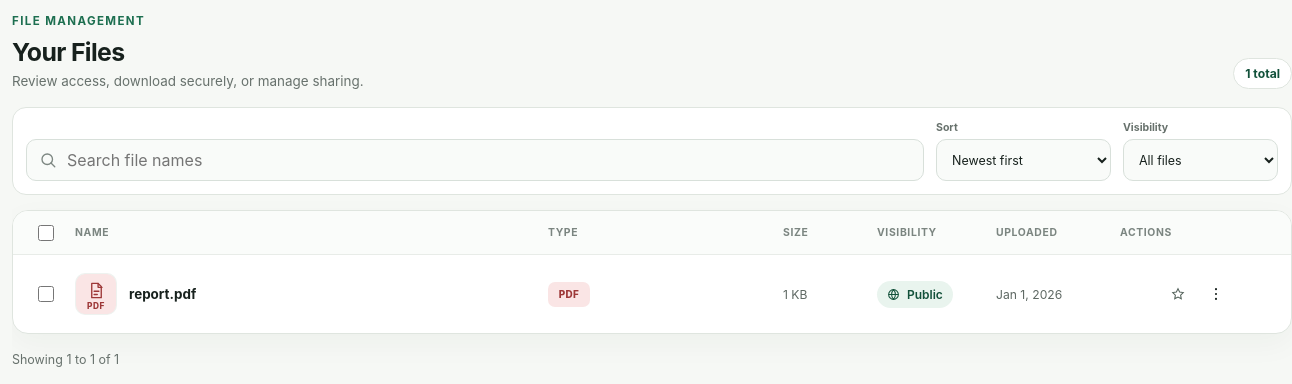
it: FileList professional table and pagination › keeps compact controls accessible and renders functional filter controls
Click the button named "Open actions for report.pdf": (1216, 294) [1200,277,1232,311]
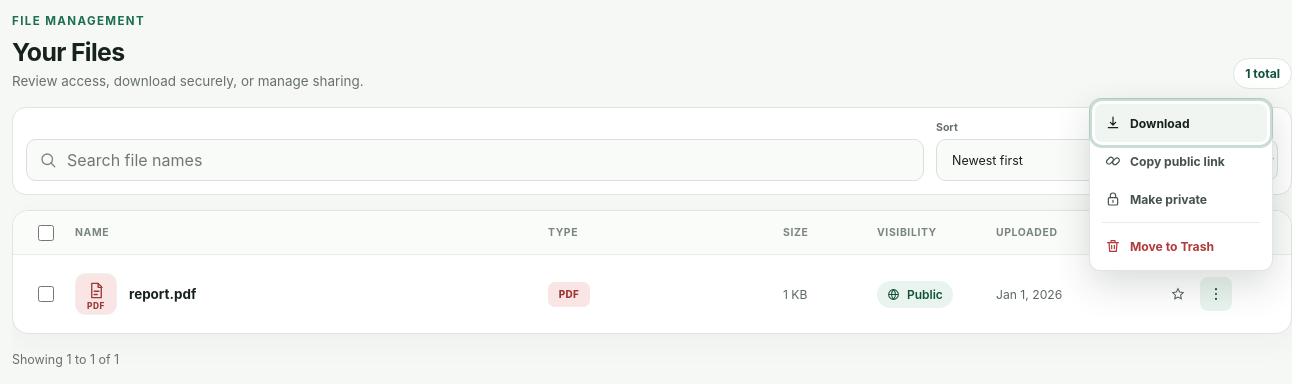
Expected: the button named "Open actions for report.pdf" is expanded, [1200,277,1232,311]
